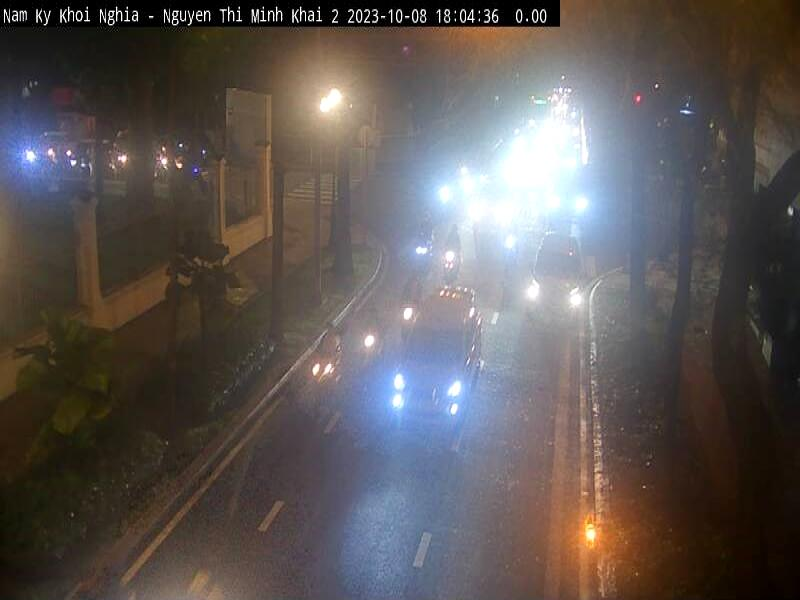car: (386, 284, 480, 438), (526, 229, 586, 326)
